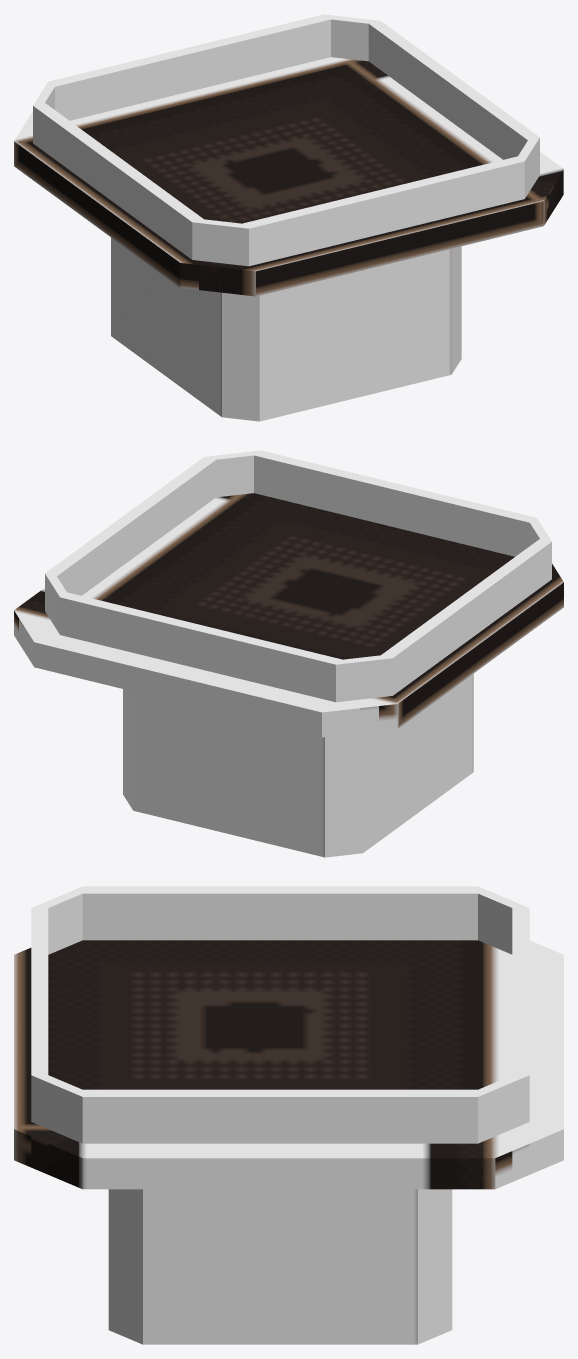
File: sanboTray.obj
3 views of the same model, one above another, from view 1: azimuth 30°, elevation 25°; view 2: azimuth 150°, elevation 25°; view 3: azimuth 270°, elevation 25° (orthographic). The views are drawn at different scales.
Parts seen in each view (by area): view 1: Default; view 2: Default; view 3: Default.
Part boxes in pixels (x1,y1,x2,y2): Default: (14, 14, 563, 421); Default: (14, 450, 563, 857); Default: (14, 886, 563, 1344).
Bounding box in the file's own units: 4 × 2.25 × 4.
